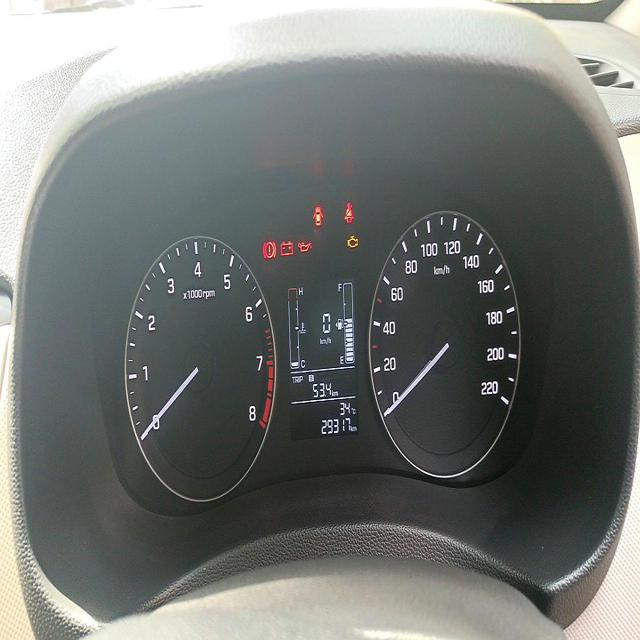odometer: (319, 416, 353, 438)
